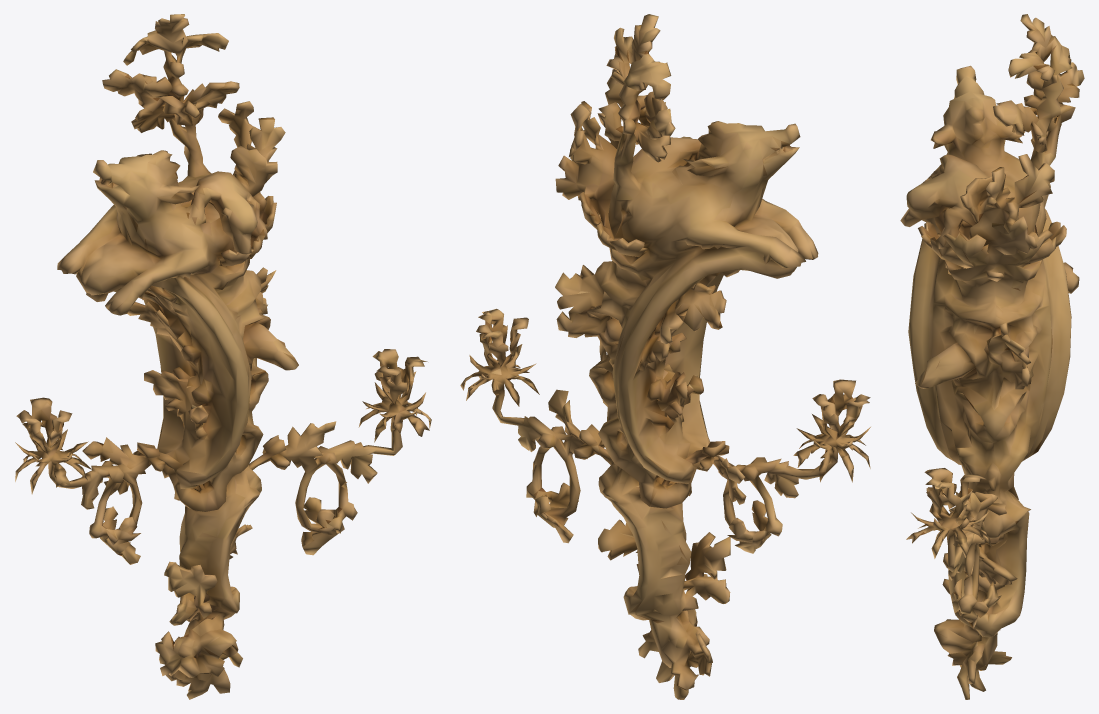
The model's file is sconce-2017746-3.glb.
3 views of the same model, side by side, from view 1: azimuth 30°, elevation 25°; view 2: azimuth 150°, elevation 25°; view 3: azimuth 270°, elevation 25° (orthographic). The views are drawn at different scales.
Visible parts, largest first — view 1: Mesh; view 2: Mesh; view 3: Mesh.
Part boxes in pixels (x1=…): Mesh: x1=15, y1=14, x2=431, y2=699; Mesh: x1=460, y1=14, x2=870, y2=699; Mesh: x1=900, y1=14, x2=1084, y2=699.
Size of the model in its own units: 0.54 by 0.8741 by 0.2156.
1 material, 1 textured.
